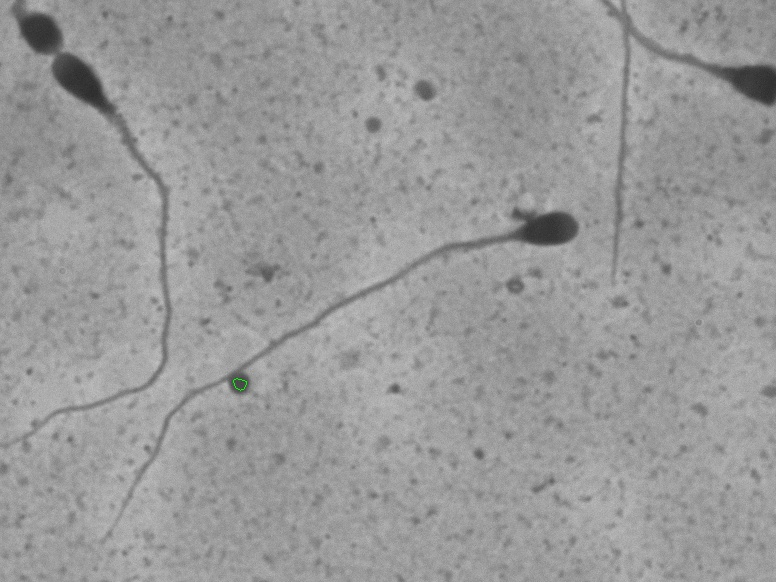Abnormal: (14, 41, 200, 449)
Normal: (72, 186, 601, 559)
